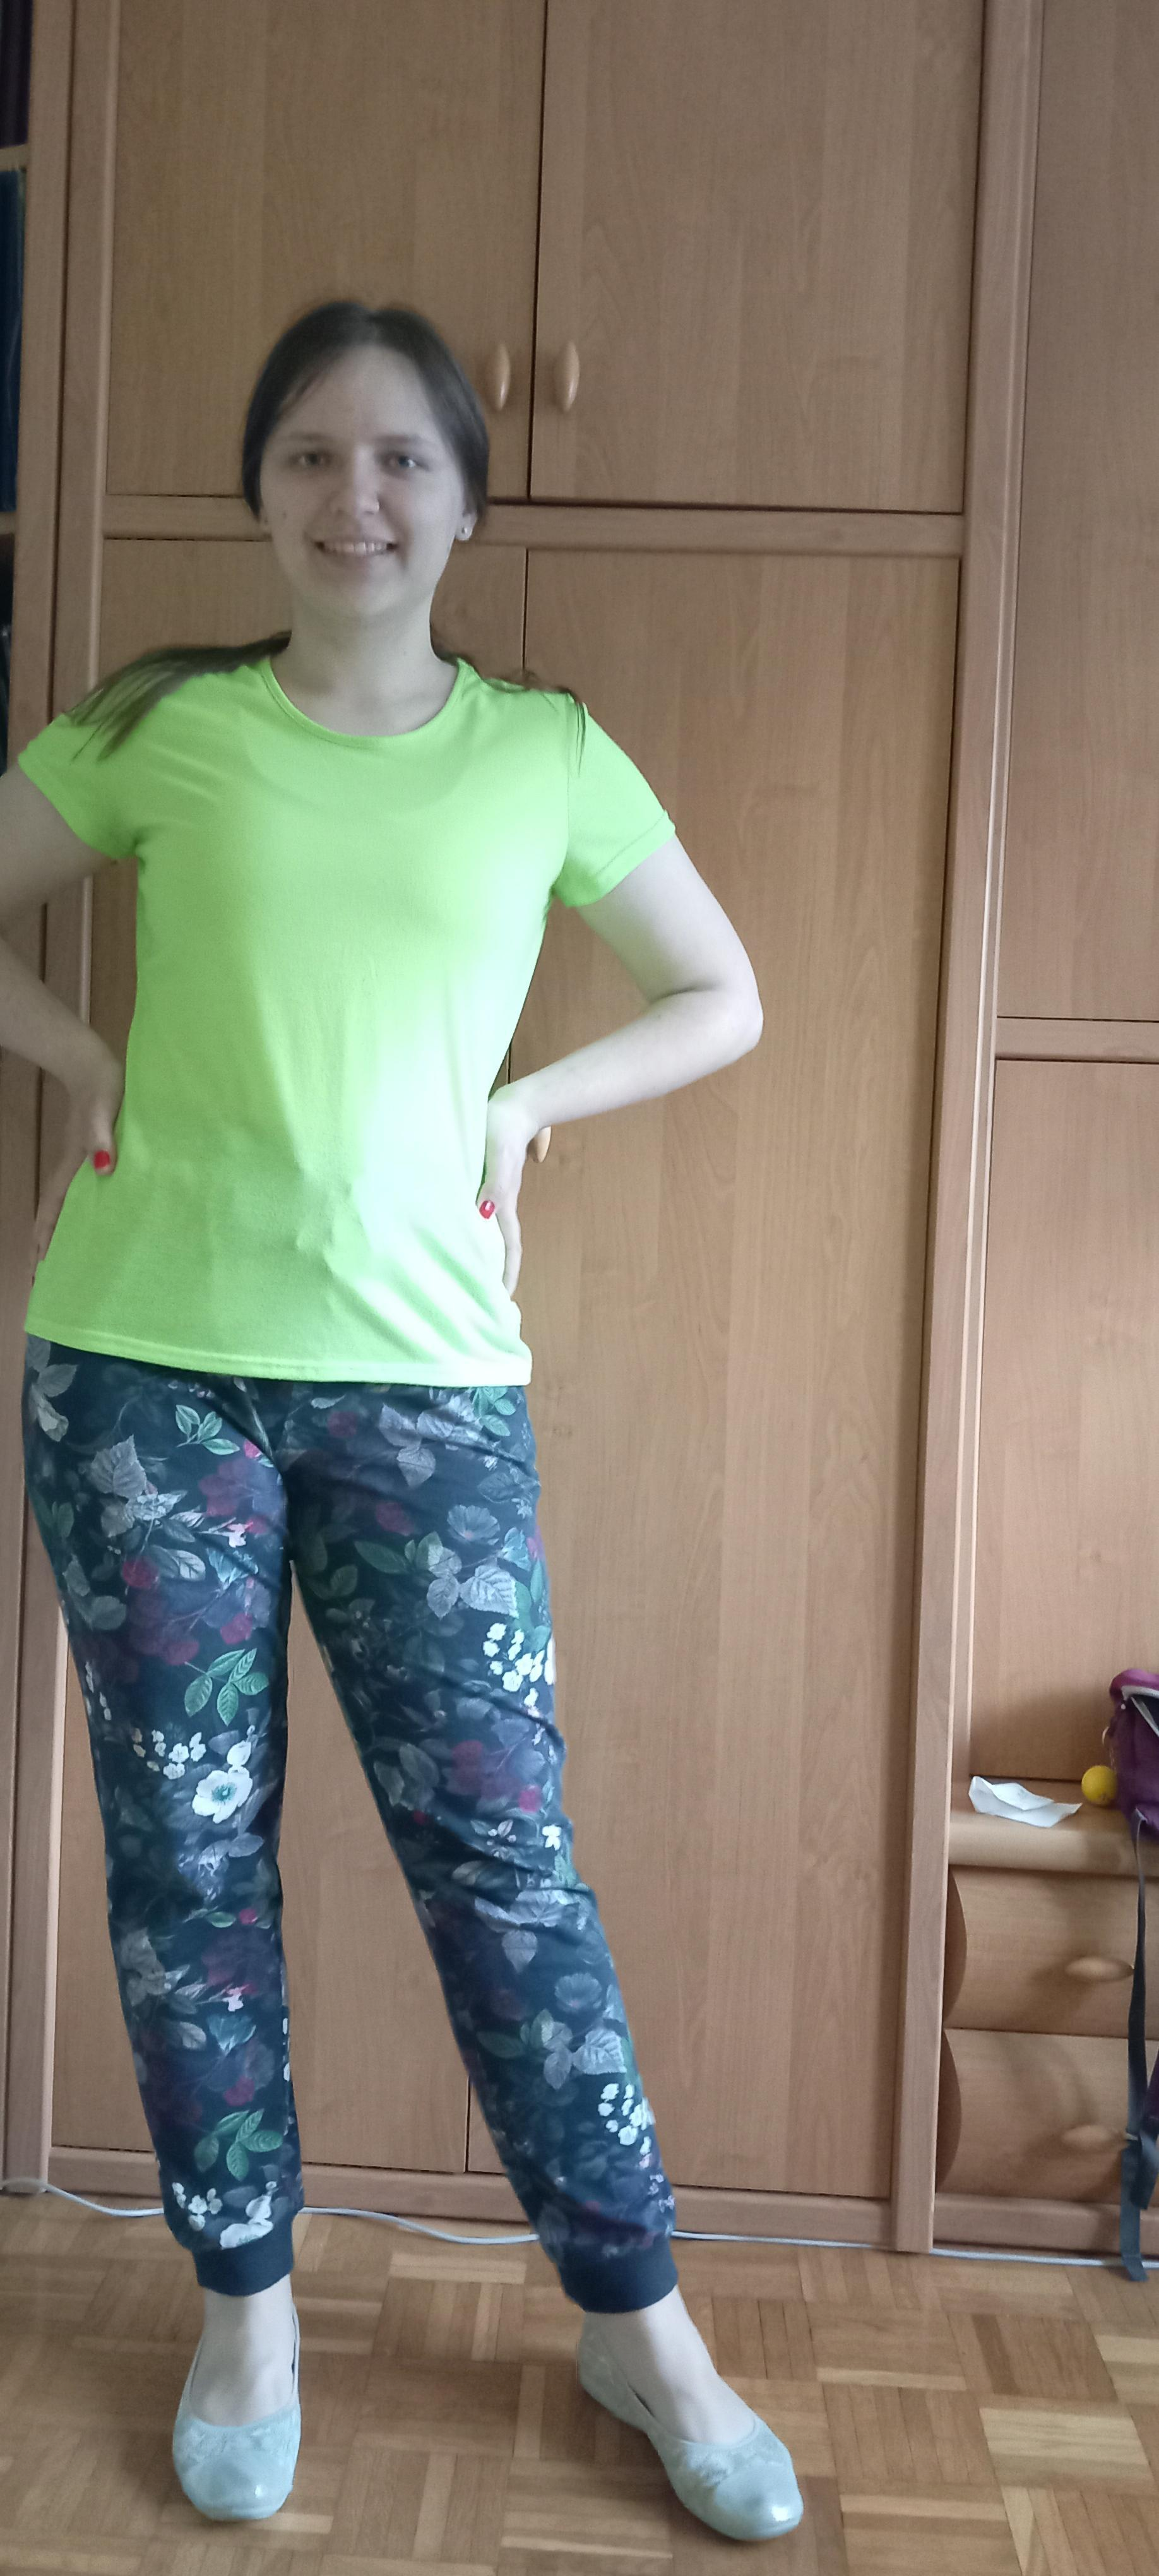Tshirt: (23, 652, 676, 1390)
pants: (18, 1332, 676, 2316)
